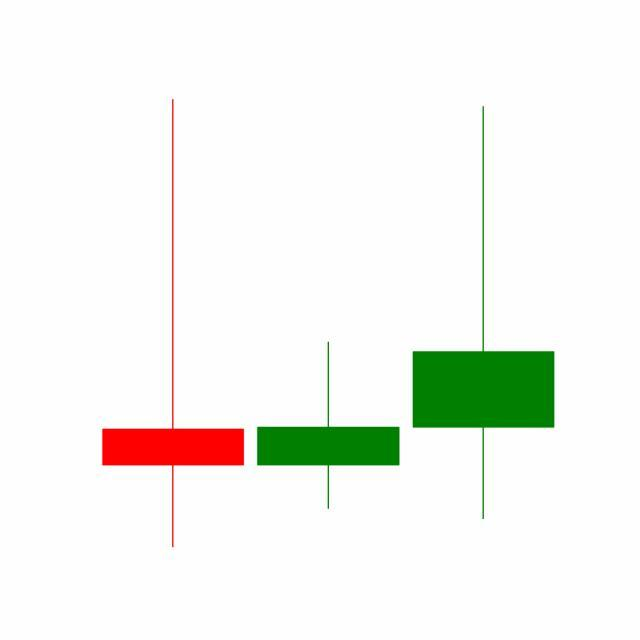Spinning Top: (250, 341, 407, 512)
